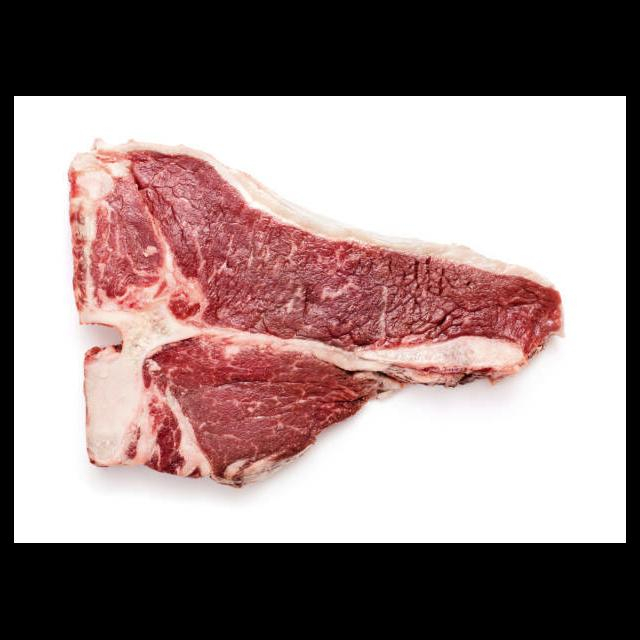beef: (68, 138, 568, 488)
